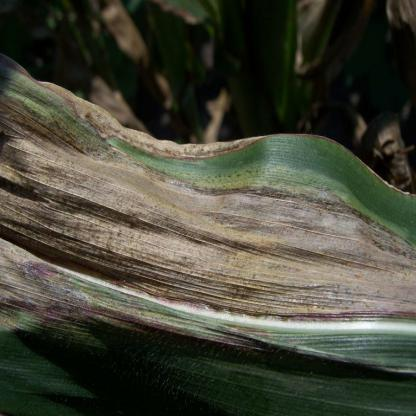corn leaf blight: (3, 51, 415, 415)
